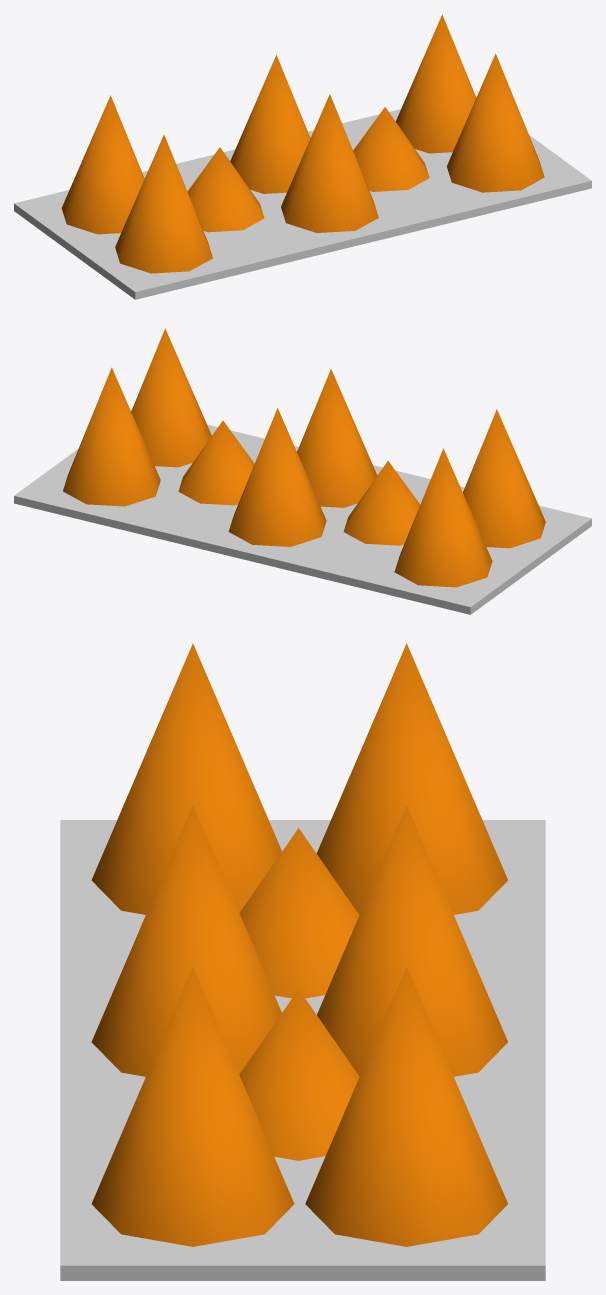
The model's file is Obstacle1.fbx.
The picture shows the model from 3 angles, top to bottom: view 1: azimuth 30°, elevation 25°; view 2: azimuth 150°, elevation 25°; view 3: azimuth 270°, elevation 25°; orthographic projection. The views are drawn at different scales.
Visible parts, largest first — view 1: Obstacle1; view 2: Obstacle1; view 3: Obstacle1.
Boxes of the visible parts, x1=… form: Obstacle1: x1=14, y1=14, x2=591, y2=299; Obstacle1: x1=14, y1=328, x2=591, y2=614; Obstacle1: x1=60, y1=643, x2=545, y2=1280.
Bounding box in the file's own units: 204 × 54.07 × 93.95.
